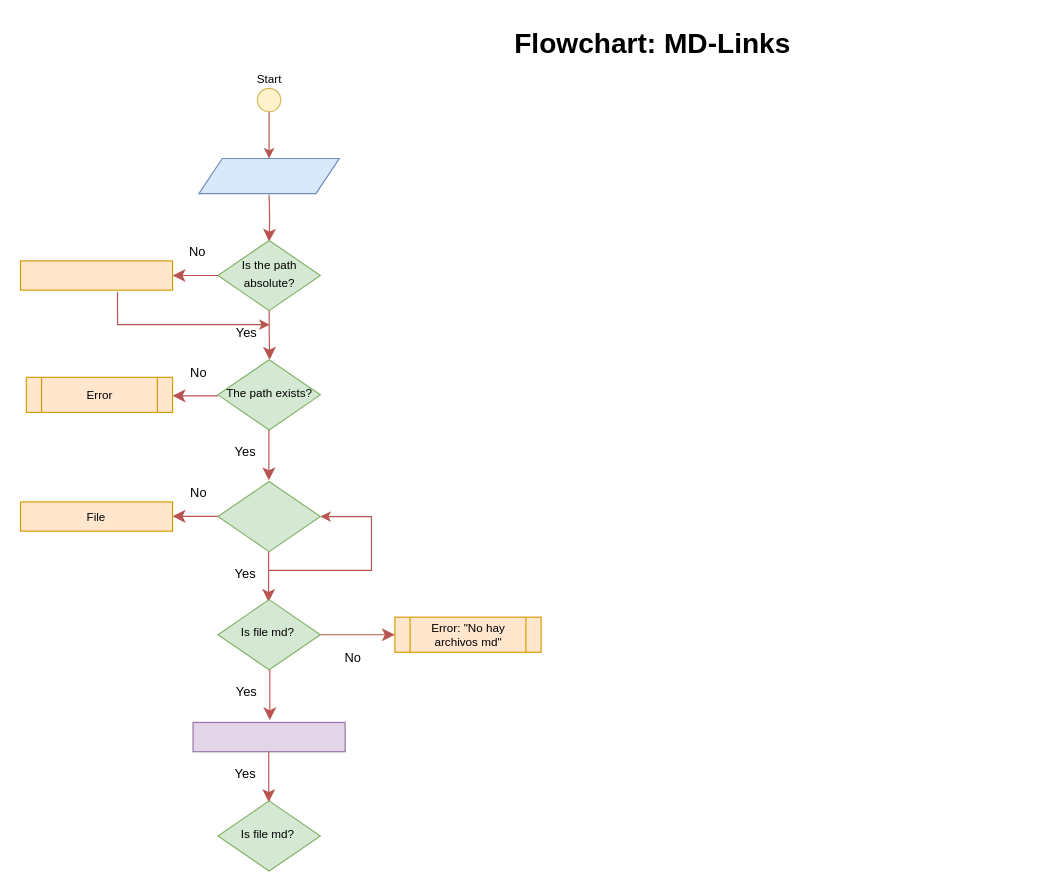
This 1047x892 diagram has some shape labels left out. Each missing label, with the centre of its shape:
Convert to absolute path: the point at 96,275
Enter the path: the point at 268,175
Is directory?: the point at 268,516
Open and read file: the point at 268,736
